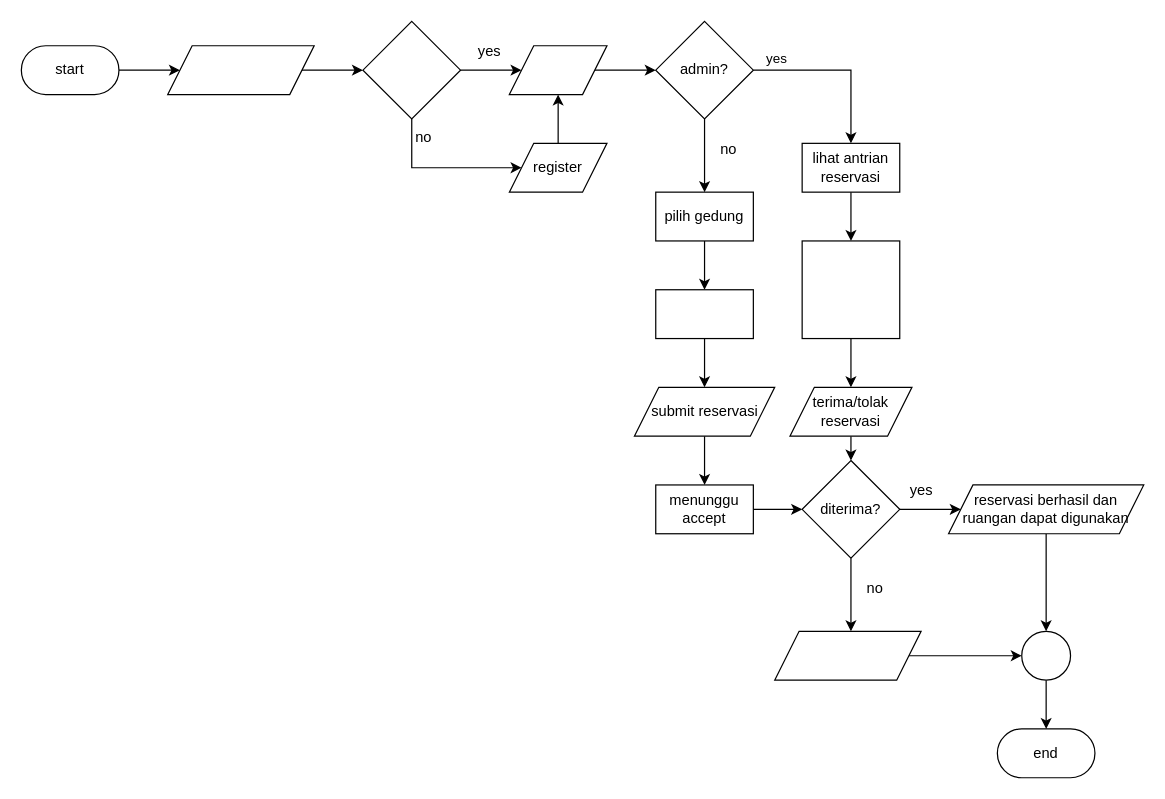
Some shapes in this 1165 by 799 pixel diagram are drawn without their labels. Here are the shapes that lost their labels. From the top down, the centre of each, then its label:
At (240,70): "masukkan akun".
At (411,69): "punya account?".
At (557,70): "sign in".
At (850,289): "melihat gedung mana yang ingin di reservasi".
At (704,314): "pilih ruangan".
At (847,655): "reservasi ditolak".
